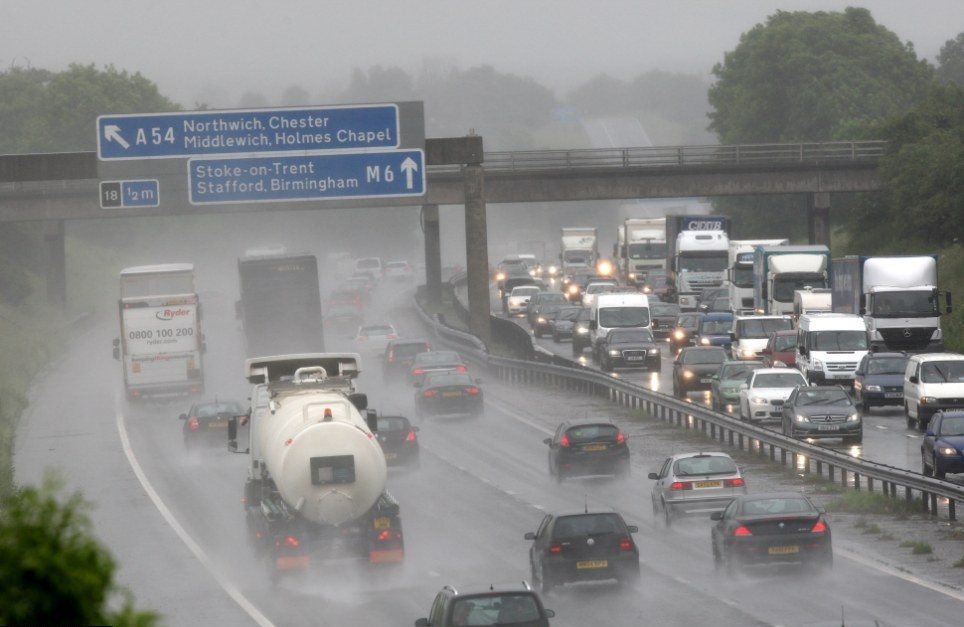car: (708, 493, 834, 579), (530, 509, 638, 593), (649, 449, 745, 523), (542, 418, 627, 483), (898, 350, 963, 434), (421, 585, 557, 625), (796, 315, 869, 385), (781, 384, 865, 444), (181, 399, 249, 454), (590, 290, 658, 345), (741, 367, 809, 420), (852, 352, 910, 412), (668, 346, 730, 401), (415, 372, 483, 419), (921, 408, 963, 482), (597, 328, 665, 370), (368, 412, 419, 463), (379, 338, 431, 382), (729, 316, 772, 363), (345, 324, 400, 357), (709, 359, 746, 408), (409, 353, 466, 382), (696, 311, 728, 353), (667, 311, 703, 347), (767, 328, 795, 369), (495, 258, 526, 292), (324, 306, 362, 333), (572, 308, 594, 352), (651, 302, 676, 337), (534, 302, 555, 341), (553, 304, 572, 345), (505, 285, 528, 316), (324, 288, 360, 307), (356, 257, 383, 281), (386, 260, 413, 281), (523, 286, 536, 318)
truck: (230, 355, 406, 593), (111, 262, 205, 408), (830, 252, 942, 351), (232, 257, 324, 370), (663, 207, 727, 302), (755, 249, 832, 315), (625, 215, 665, 296), (725, 234, 760, 316), (559, 226, 600, 292), (612, 221, 626, 280)
